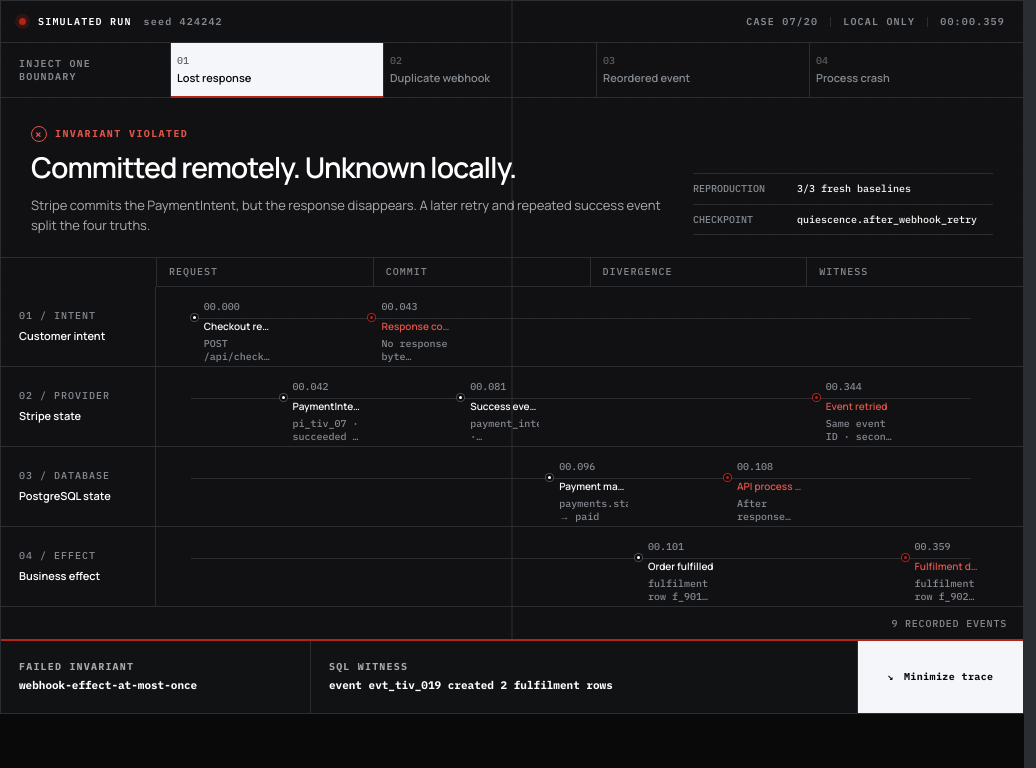
Test case: TraceInstrument › switches scenarios from an accessible tab list and announces the result
Click the tab "02 Duplicate webhook" at (490, 70), box [384,43,597,97]
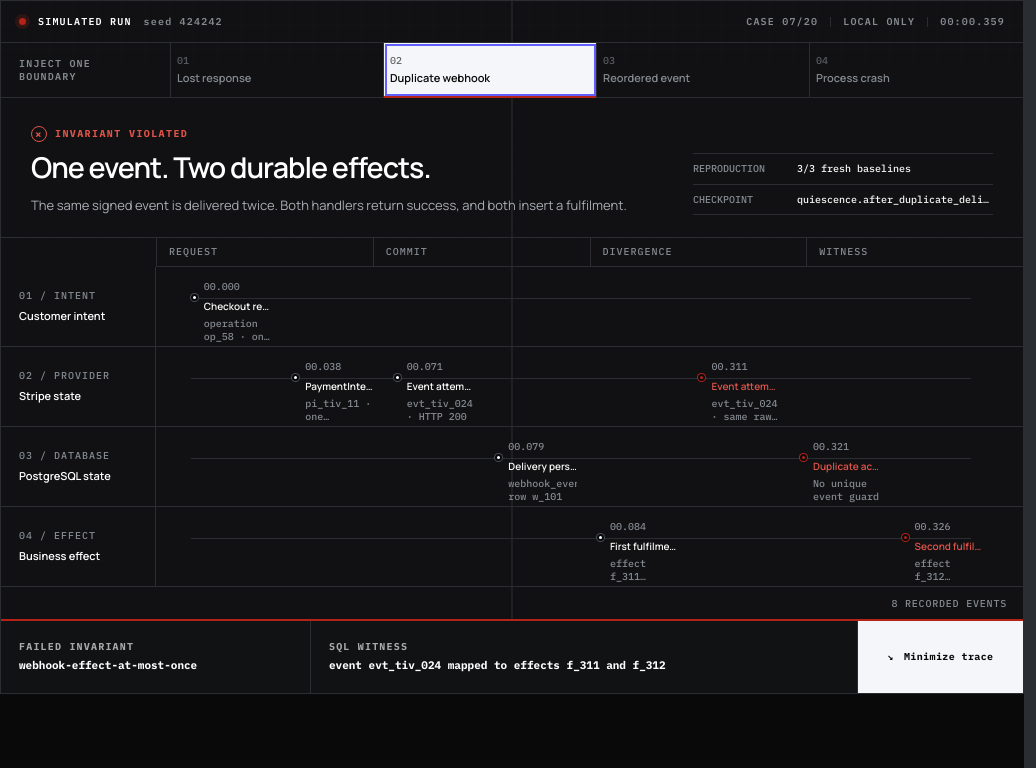
Expected: the heading "One event. Two durable effects." is shown, [31,147,431,187]
Expected: the text "event evt_tiv_024 mapped to effects f_311 and f_312" is shown, [329,658,666,672]
